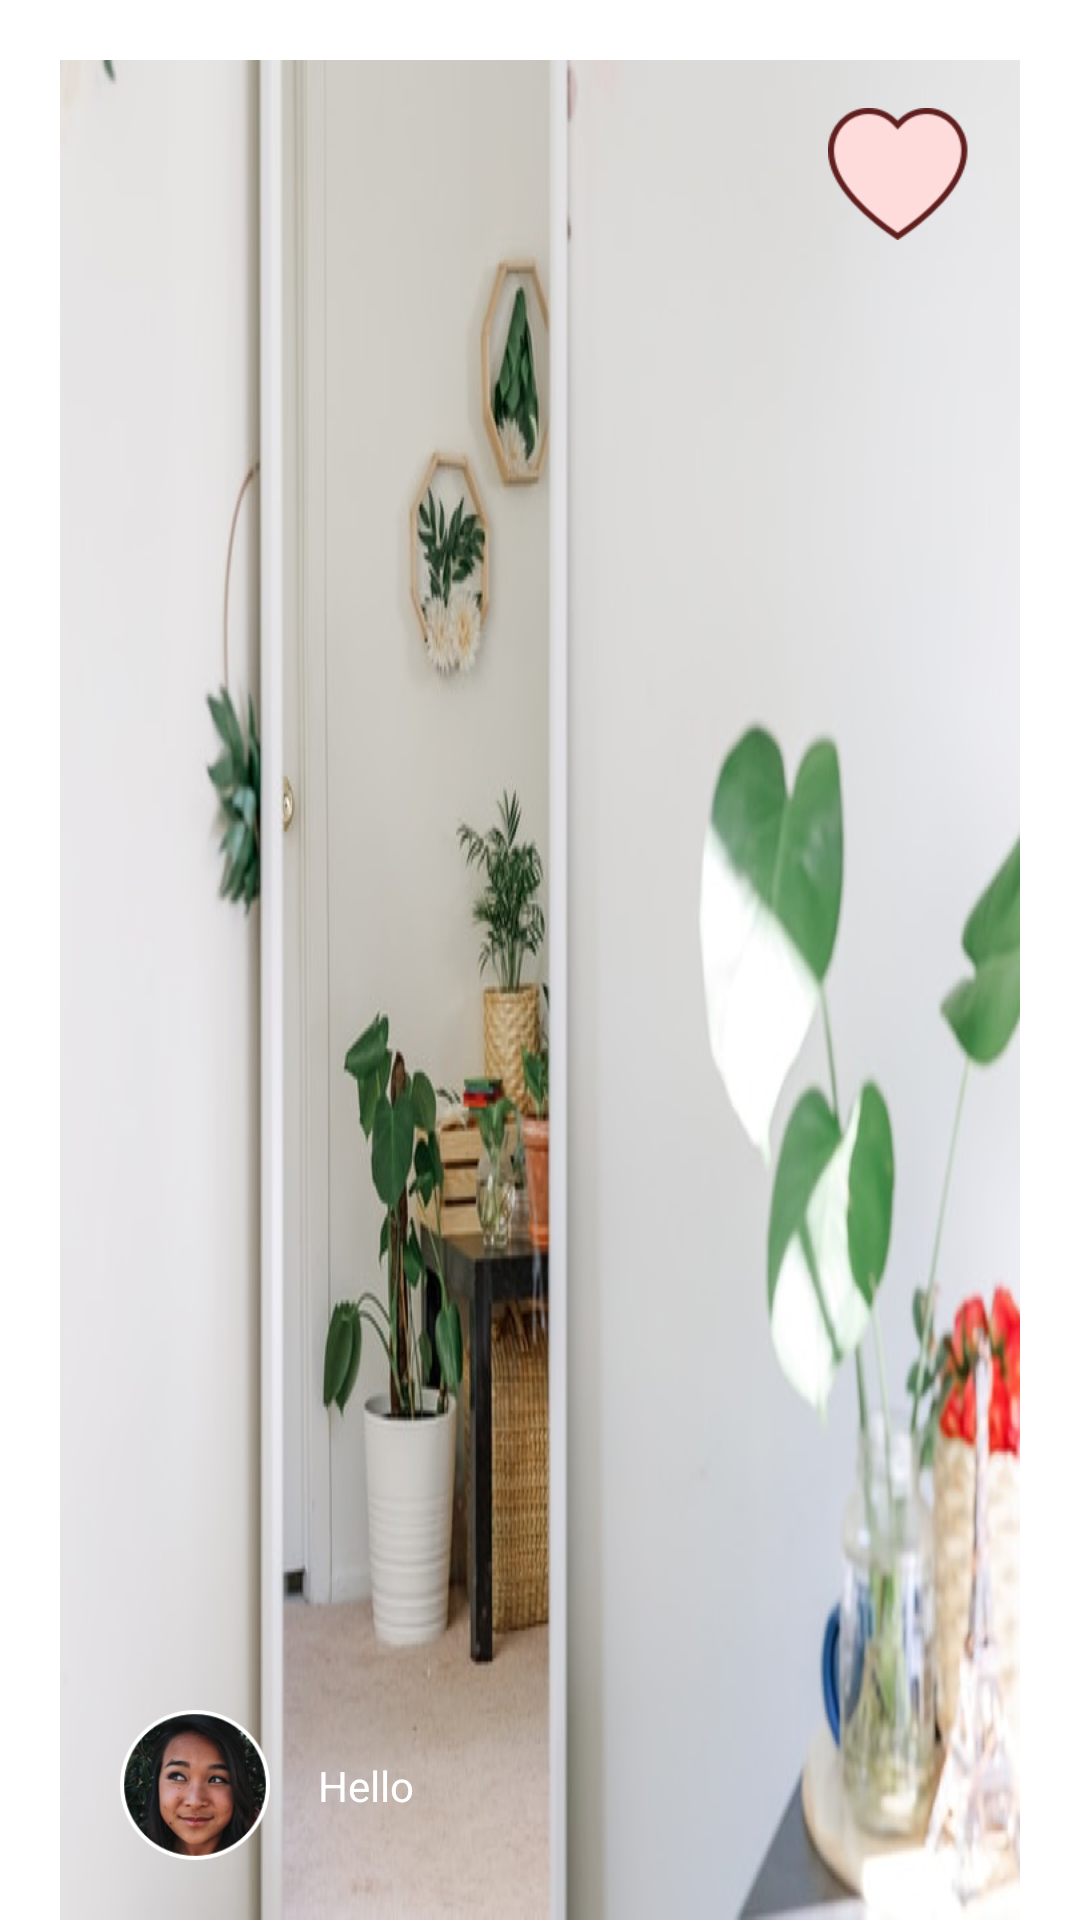

Screen size 1080*1920. Icon name, then its center in pixels as point (x, y):
facorite home deselet: point (898, 174)
